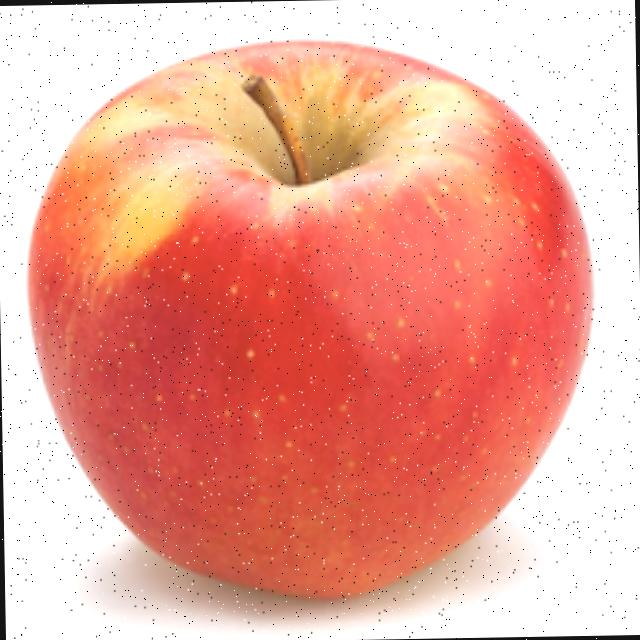Ripe: (19, 31, 606, 608)
